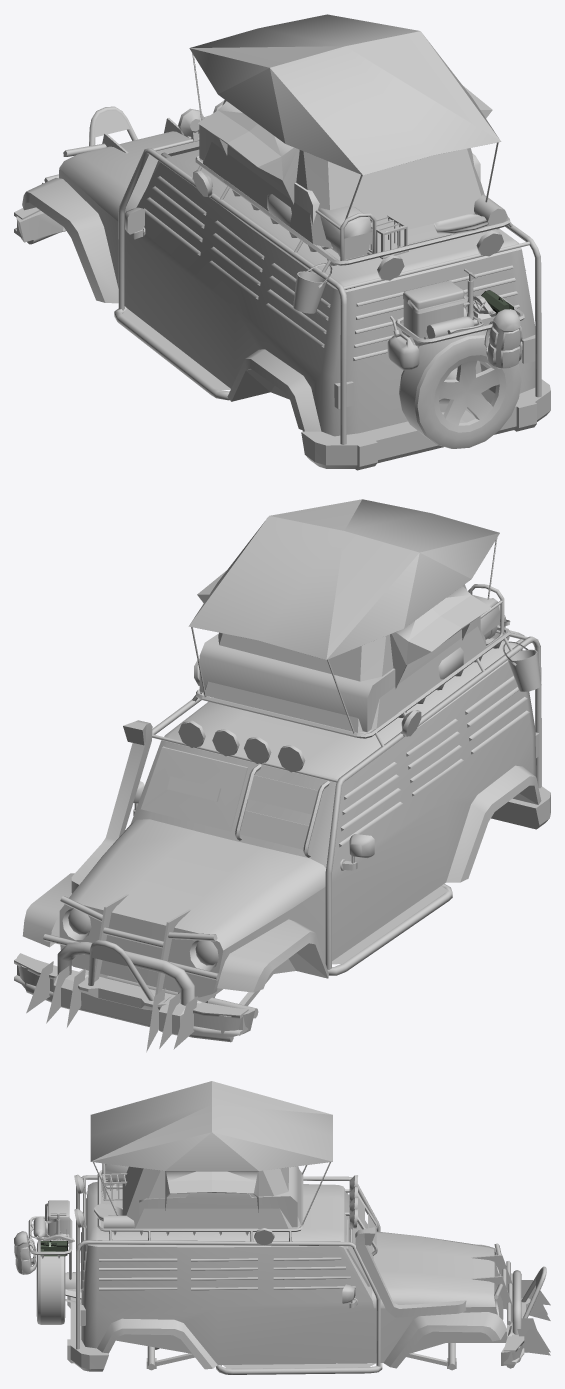
File: ATA_Jeep_base.fbx
3 views of the same model, one above another, from view 1: azimuth 30°, elevation 25°; view 2: azimuth 150°, elevation 25°; view 3: azimuth 270°, elevation 25° (orthographic). The views are drawn at different scales.
Parts seen in each view (by area): view 1: base_jeep, palatka_open, _zapaska, cage, wheelrack_Cooler_Ground, roofrack_Generator, _armor_wback, roofrack, wheelrack_backpack, palatka_closed, roofrack_Bucket, _armor_wleft (+12 smaller); view 2: base_jeep, palatka_open, _shield_windshield, palatka_closed, _bumper4, cage, _bumper1, air_tube, _bumper2, rooflights_front, _bumper3, palatka_base (+6 smaller); view 3: base_jeep, palatka_open, cage, _bumper4, palatka_closed, _zapaska, air_tube, _armor_wback, _armor_wright, _shield_windshield, roofrack, _armor_wmiddleright (+10 smaller).
Boxes of the visible parts, x1,y1,x2,y2 form: base_jeep: (22,131,550,470); palatka_open: (189,14,500,248); _zapaska: (399,326,521,448); cage: (118,137,541,444); wheelrack_Cooler_Ground: (403,280,468,338); roofrack_Generator: (315,205,376,260); _armor_wback: (266,258,525,360); roofrack: (220,180,512,272); wheelrack_backpack: (484,309,522,368); palatka_closed: (199,124,480,224); roofrack_Bucket: (293,263,332,313); _armor_wleft: (143,176,206,255); base_jeep: (22,638,550,1018); palatka_open: (188,499,499,733); _shield_windshield: (141,746,329,857); palatka_closed: (199,616,480,732); _bumper4: (14,894,248,1052); cage: (152,630,541,969); _bumper1: (17,953,254,1037); air_tube: (71,720,152,893); _bumper2: (78,940,197,1010); rooflights_front: (178,720,305,772); _bumper3: (25,942,233,1042); palatka_base: (192,655,484,746); base_jeep: (65,1181,509,1374); palatka_open: (90,1081,332,1228); cage: (76,1175,380,1366); _bumper4: (471,1243,550,1364); palatka_closed: (139,1166,297,1227); _zapaska: (36,1240,65,1324); air_tube: (355,1227,466,1317); _armor_wback: (81,1198,177,1290); _armor_wright: (273,1257,355,1289); _shield_windshield: (344,1189,377,1286); roofrack: (97,1170,257,1241); _armor_wmiddleright: (191,1258,257,1290).
Size of the model in its own units: 33.78 by 46.11 by 91.35.
